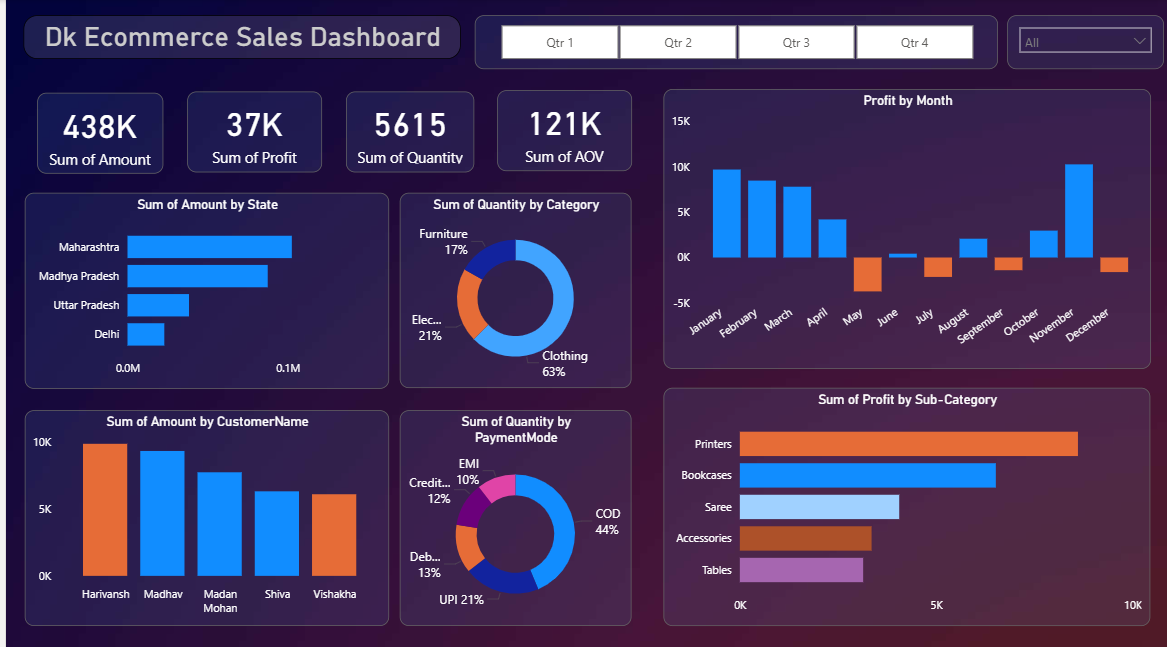

The dashboard page shown, as its layout file describes it:
{"tool":"powerbi","page":{"name":"Page 1","canvas":[1280,720],"ordinal":0},"visuals":[{"type":"textbox","title":"Dk Ecommerce Sales Dashboard","box":[19.7,18.3,477.5,49.3],"z":0},{"type":"columnChart","title":" Profit by Month","fields":{"Y":["Sum(Details.Profit)"],"Category":["Orders.Order Date.Variation.Date Hierarchy.Month"]},"box":[721.1,98.6,535.2,307],"z":1000},{"type":"clusteredBarChart","fields":{"Category":["Details.Sub-Category"],"Y":["Sum(Details.Profit)"]},"box":[721.4,427.1,534.3,261.4],"z":2000},{"type":"donutChart","fields":{"Category":["Details.Category"],"Y":["Sum(Details.Quantity)"]},"box":[432.9,212.9,254.3,214.3],"z":3000},{"type":"pieChart","fields":{"Category":["Details.PaymentMode"],"Y":["Sum(Details.Quantity)"]},"box":[432.9,451.4,254.3,237.1],"z":4000},{"type":"card","fields":{"Values":["Sum(Details.Amount)"]},"box":[33.8,102.8,138,88.7],"z":5000},{"type":"card","fields":{"Values":["Sum(Details.Profit)"]},"box":[198.6,101.4,147.9,88.7],"z":6000},{"type":"card","fields":{"Values":["Sum(Details.Quantity)"]},"box":[373.2,101.4,140.8,88.7],"z":7000},{"type":"card","fields":{"Values":["Sum(Details.AOV)"]},"box":[539.4,100,147.9,88.7],"z":8000},{"type":"clusteredBarChart","fields":{"Category":["Orders.State"],"Y":["Sum(Details.Amount)"]},"box":[20.3,212.2,400,214.9],"z":9000},{"type":"clusteredColumnChart","fields":{"Category":["Orders.CustomerName"],"Y":["Sum(Details.Amount)"]},"box":[20,451,400,237],"z":10000},{"type":"slicer","fields":{"Values":["Orders.Order Date.Variation.Date Hierarchy.Quarter"]},"box":[514.1,18.3,574.6,59.2],"z":11000},{"type":"slicer","fields":{"Values":["Orders.State"]},"box":[1098.6,18.3,171.8,59.2],"z":11001}]}

Visuals, with their boxes in screenshot pixels (x1, y1, x2, y2), scaled from the page's 1280x720 canvas onto the 1167x647 screenshot:
"Dk Ecommerce Sales Dashboard" textbox: [18, 16, 453, 61]
" Profit by Month" columnChart: [657, 89, 1145, 364]
clusteredBarChart - Details.Sub-Category x Sum(Details.Profit): [658, 384, 1145, 619]
donutChart - Details.Category x Sum(Details.Quantity): [395, 191, 627, 384]
pieChart - Details.PaymentMode x Sum(Details.Quantity): [395, 406, 627, 619]
card - Sum(Details.Amount): [31, 92, 157, 172]
card - Sum(Details.Profit): [181, 91, 316, 171]
card - Sum(Details.Quantity): [340, 91, 469, 171]
card - Sum(Details.AOV): [492, 90, 627, 170]
clusteredBarChart - Orders.State x Sum(Details.Amount): [19, 191, 383, 384]
clusteredColumnChart - Orders.CustomerName x Sum(Details.Amount): [18, 405, 383, 618]
slicer - Orders.Order Date.Variation.Date Hierarchy.Quarter: [469, 16, 993, 70]
slicer - Orders.State: [1002, 16, 1158, 70]
